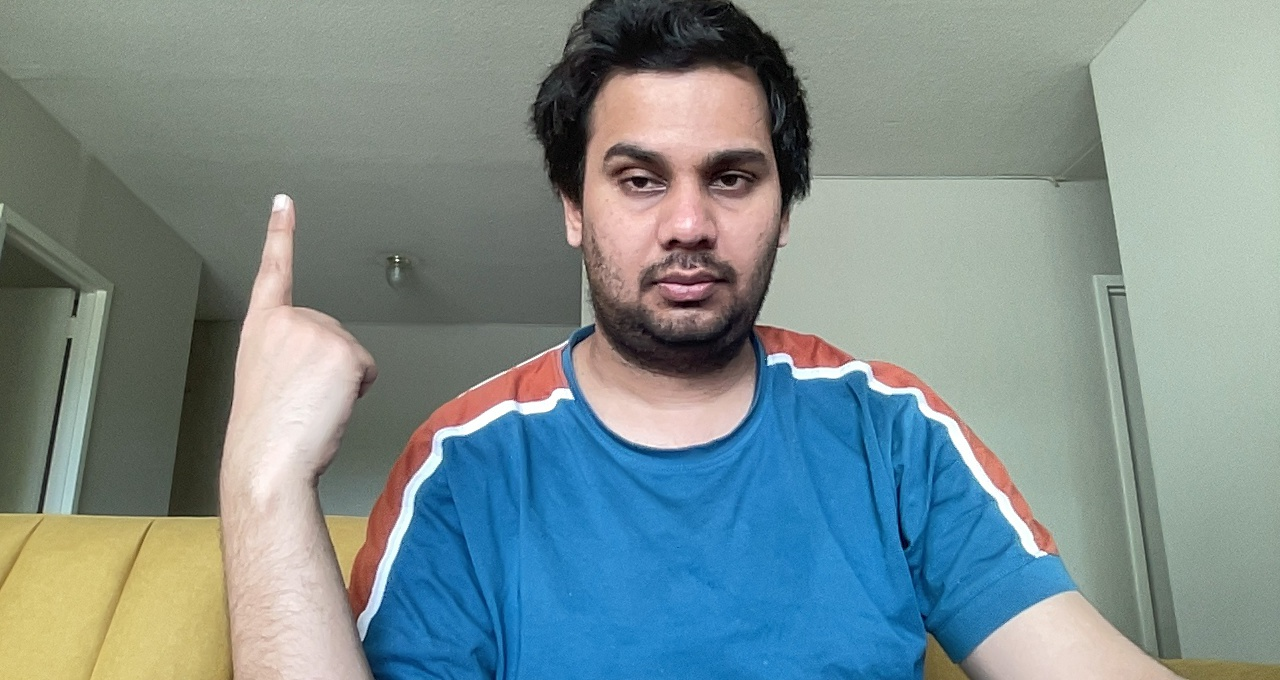fingerup: (228, 183, 392, 476)
